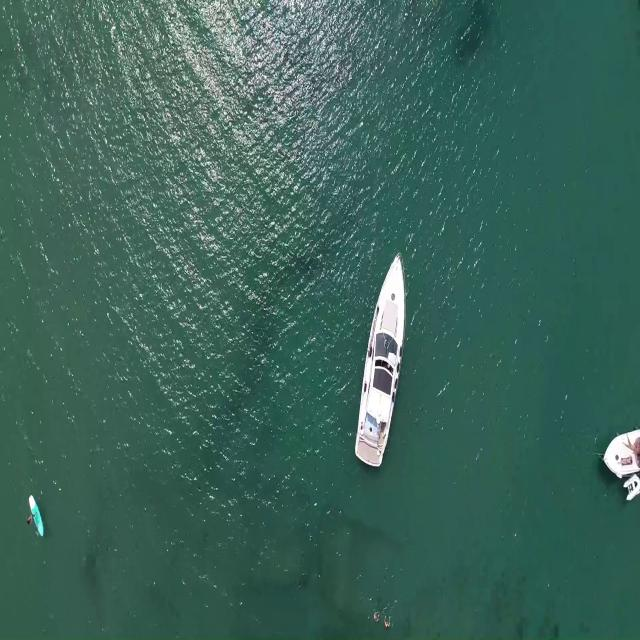boat: (341, 251, 405, 466), (599, 420, 640, 502)
person: (27, 511, 38, 525), (384, 612, 392, 628), (372, 610, 381, 622)
surfboard: (30, 494, 42, 540)
